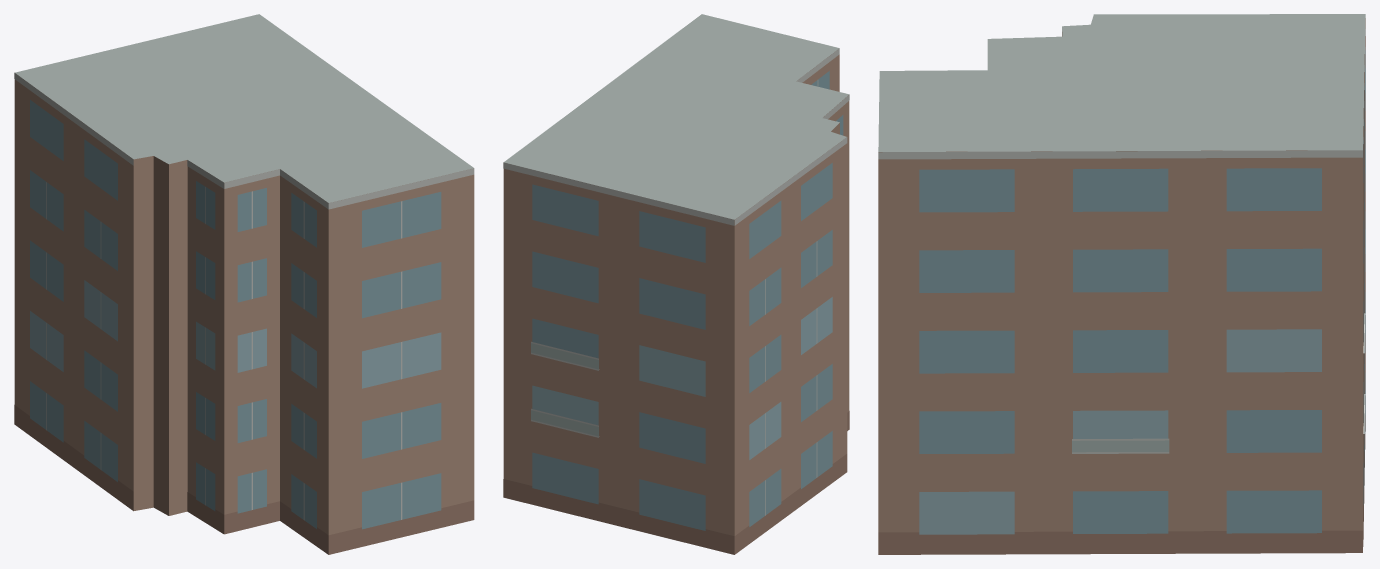
File: survey-upis-32729269.glb
The picture shows the model from 3 angles, left to right: view 1: azimuth 30°, elevation 25°; view 2: azimuth 150°, elevation 25°; view 3: azimuth 270°, elevation 25°; orthographic projection. The views are drawn at different scales.
Parts seen in each view (by area): view 1: survey-upis-32729269.tmp; view 2: survey-upis-32729269.tmp; view 3: survey-upis-32729269.tmp.
Boxes of the visible parts, left/top/right/bottom form: survey-upis-32729269.tmp: left=14, top=14, right=474, bottom=554; survey-upis-32729269.tmp: left=503, top=14, right=849, bottom=554; survey-upis-32729269.tmp: left=878, top=14, right=1365, bottom=554.
Size of the model in its own units: 9.78 by 13.3 by 14.59.
